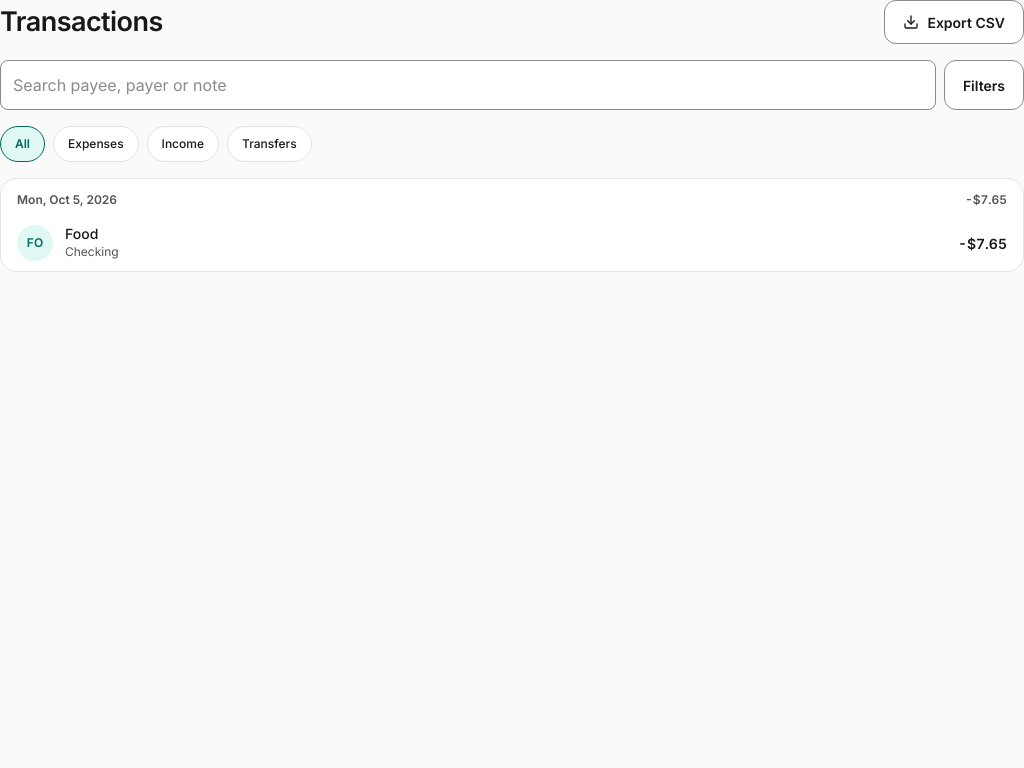
Test: the Filters sheet › has no Apply button: it closes with Done
Expected: the button with aria-label "Open transaction" is shown, x1=1 y1=215 x2=1023 y2=271
What coordinates should you click on to do the following:
click the button "Filters"
I would click on:
 (984, 85)
Its box is x1=944 y1=60 x2=1023 y2=110.
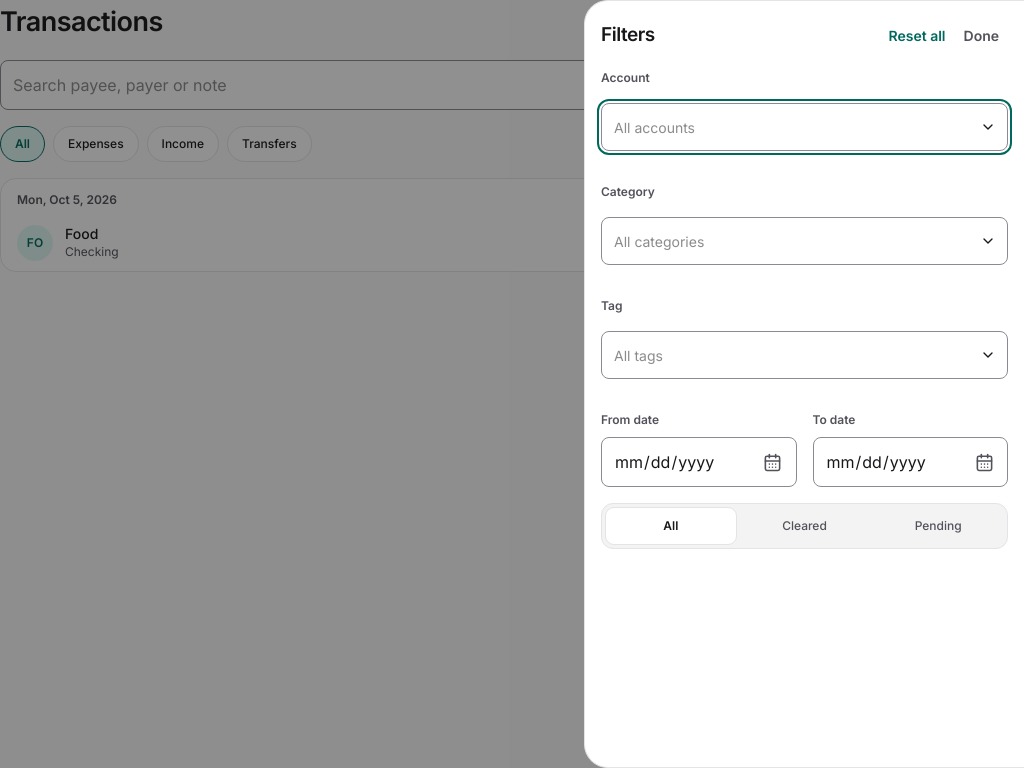
What coordinates should you click on to do the following:
click the button "Done"
I would click on:
 (981, 35)
Its box is x1=954 y1=13 x2=1008 y2=57.
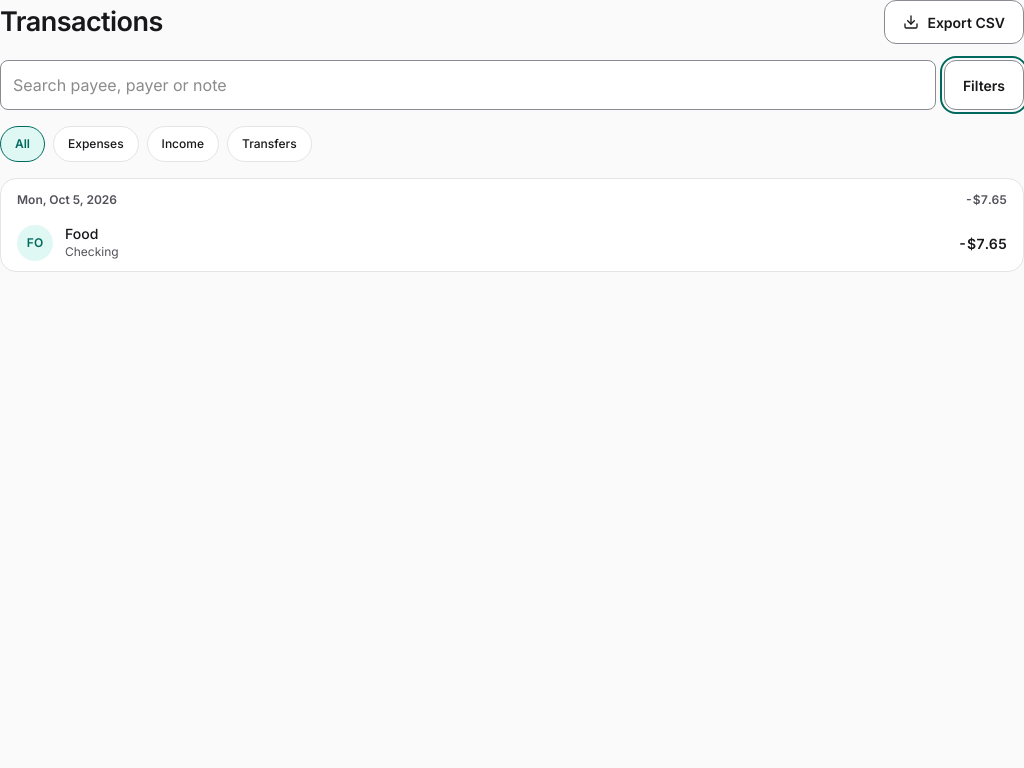
Now the dialog is gone
